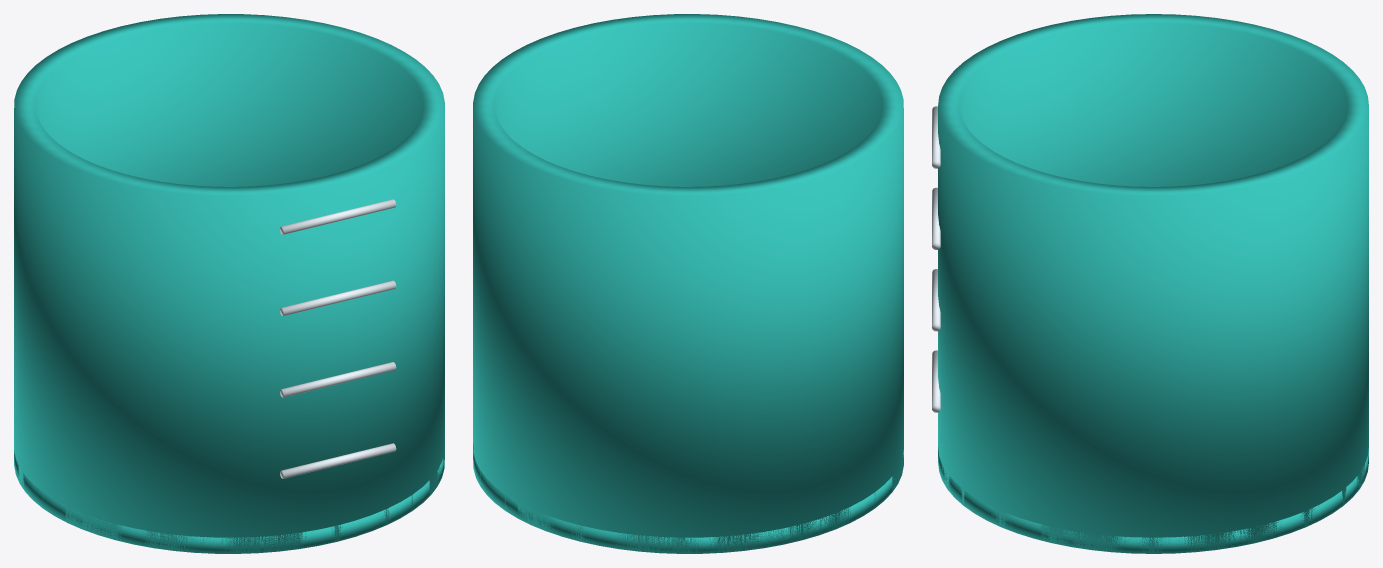
The model's file is laboratory-beaker-quality.glb.
3 views of the same model, side by side, from view 1: azimuth 30°, elevation 25°; view 2: azimuth 150°, elevation 25°; view 3: azimuth 270°, elevation 25° (orthographic).
Parts seen in each view (by area): view 1: Open beaker; view 2: Open beaker; view 3: Open beaker.
Boxes of the visible parts, x1,y1,x2,y2 form: Open beaker: (14,14,444,553); Open beaker: (473,14,903,553); Open beaker: (932,14,1368,553).
Size of the model in its own units: 1.2 by 1.1 by 1.22.
